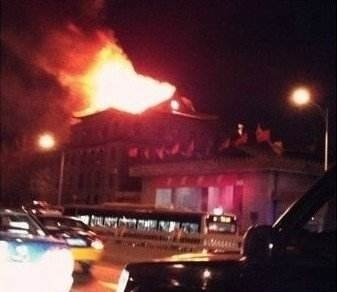fire: (63, 36, 174, 115)
